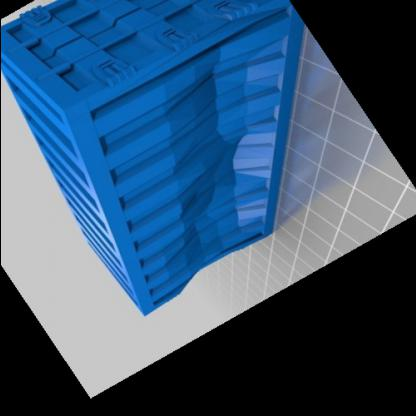Damage: (178, 43, 234, 281)
